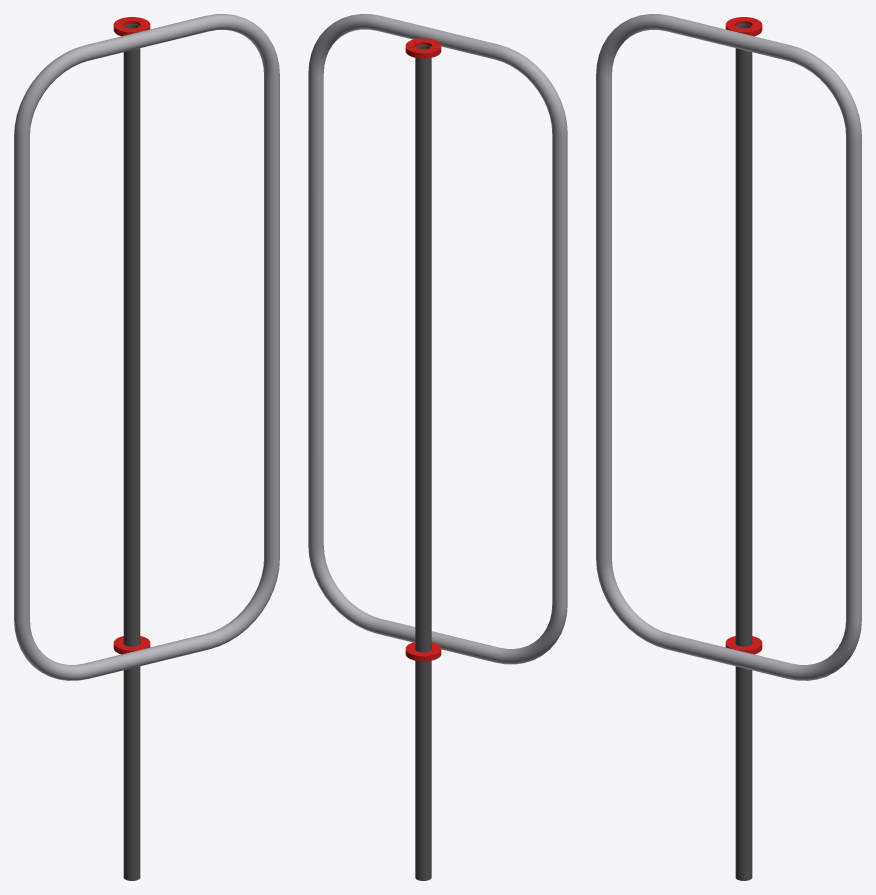
The model's file is spine-connector-positions-v2.glb.
3 renders of one model, left to right at view 1: azimuth 30°, elevation 25°; view 2: azimuth 150°, elevation 25°; view 3: azimuth 330°, elevation 25°, orthographic. The views are drawn at different scales.
Visible parts, largest first — view 1: track_loop, spine_tube; view 2: track_loop, spine_tube, marker_top_connector; view 3: track_loop, spine_tube.
Boxes of the visible parts, <box> form: track_loop: <box>14,14,279,680</box>; spine_tube: <box>123,24,140,880</box>; track_loop: <box>308,14,567,664</box>; spine_tube: <box>415,45,431,880</box>; marker_top_connector: <box>405,38,441,58</box>; track_loop: <box>596,14,861,680</box>; spine_tube: <box>735,24,752,880</box>.
Size of the model in its own units: 612 by 1900 by 113.
